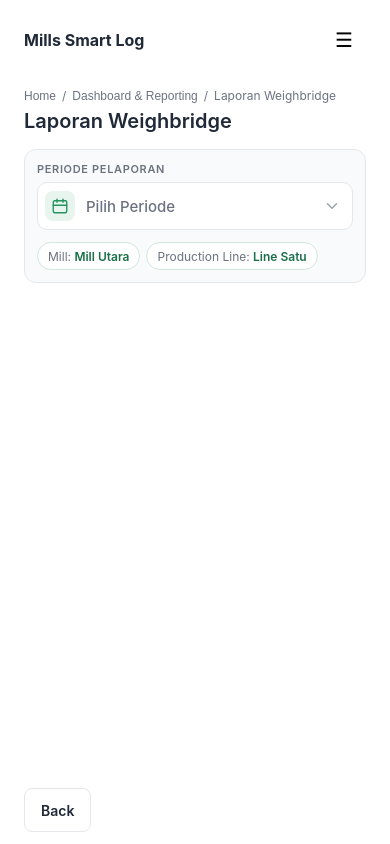
Test: null bukan nol › berat null dirender sebagai keterangan bergaya non-angka, bukan 0
Select "Weighbridge — Periode September 2026" in the dropdown with test id "period-select" at (195, 206), box top-left (37, 182), bottom-right (353, 230)
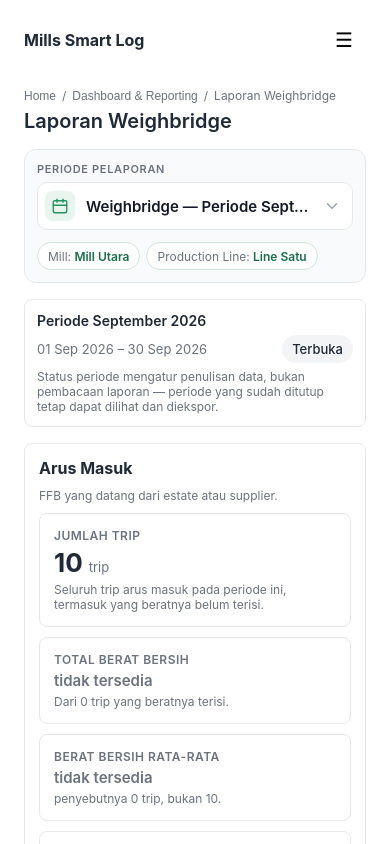
Now the text with test id "kpi-receive-net-weight-total" reads "tidak tersedia", box top-left (54, 671), bottom-right (152, 690)
